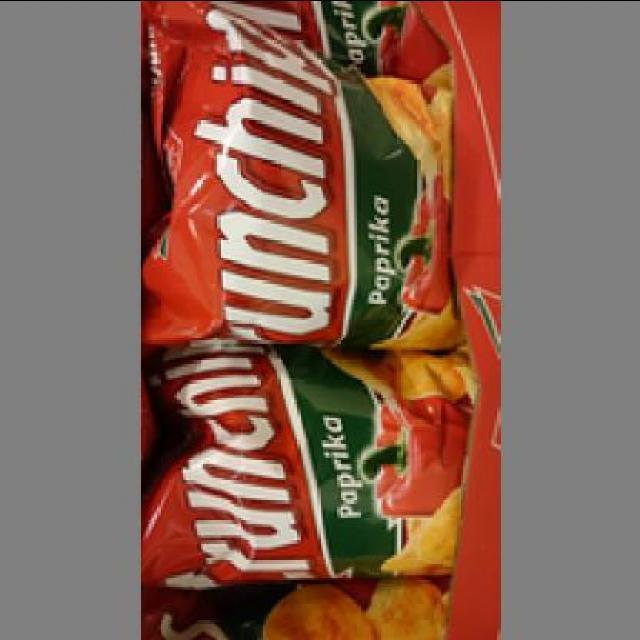Chips: (148, 3, 464, 351), (146, 350, 474, 588)
